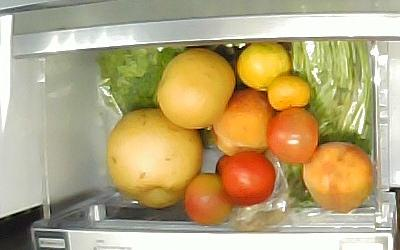peach: (302, 142, 373, 213), (211, 90, 273, 155)
pear: (106, 108, 202, 207), (157, 47, 235, 129)
tangerine: (236, 42, 289, 91), (267, 76, 312, 109)
tomato: (216, 149, 275, 204), (267, 108, 318, 164), (183, 173, 230, 225)
